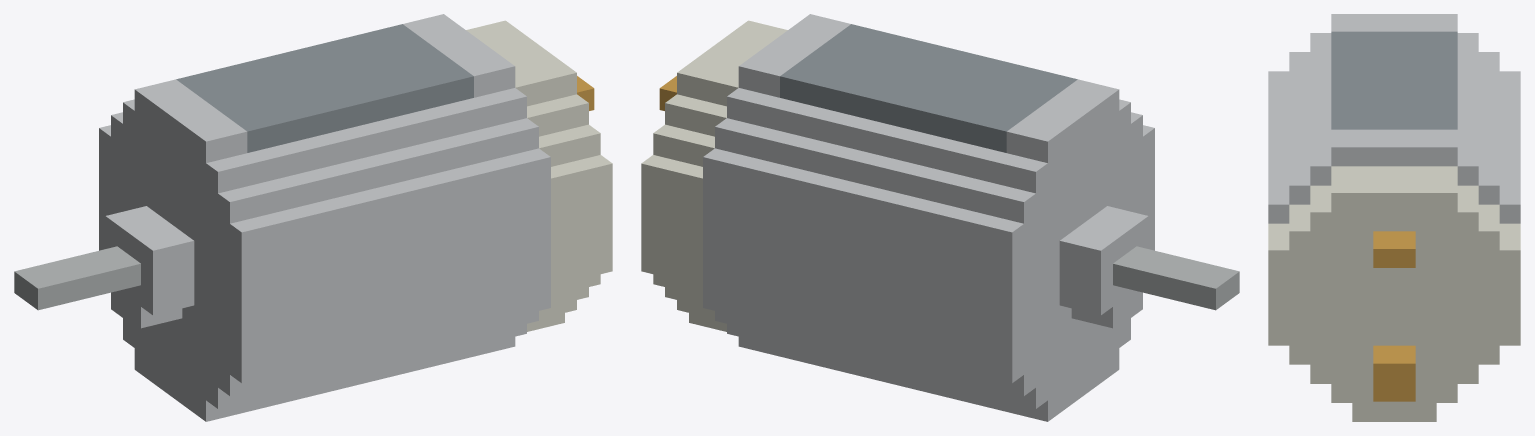
The model's file is motor_micro.glb.
3 renders of one model, left to right at view 1: azimuth 30°, elevation 25°; view 2: azimuth 150°, elevation 25°; view 3: azimuth 270°, elevation 25°, orthographic. The views are drawn at different scales.
Parts seen in each view (by area): view 1: motor_micro:compound; view 2: motor_micro:compound; view 3: motor_micro:compound.
Boxes of the visible parts, x1,y1,x2,y2 form: motor_micro:compound: (14, 14, 612, 421); motor_micro:compound: (641, 14, 1239, 421); motor_micro:compound: (1268, 14, 1520, 421).
Size of the model in its own units: 0.054 by 0.026 by 0.024.
